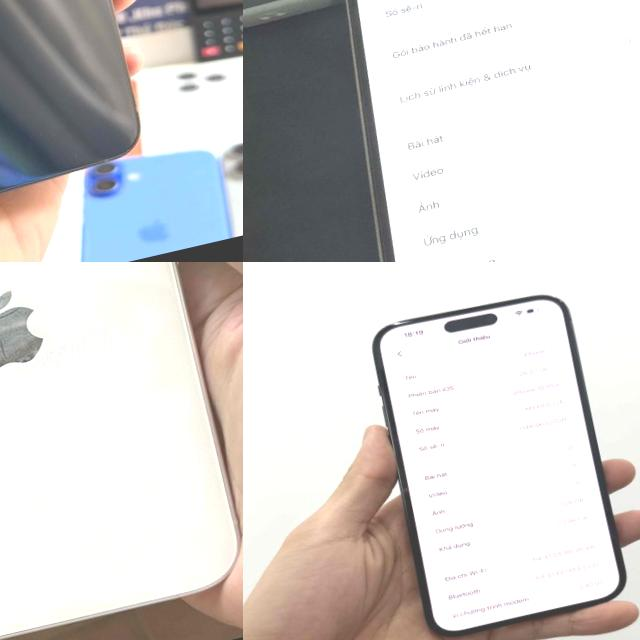scratch: (384, 312, 416, 329)
